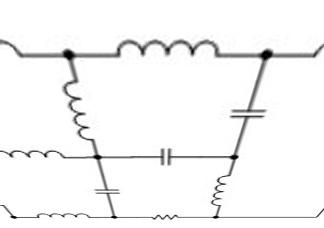inductor: (105, 26, 230, 62), (52, 72, 107, 145), (0, 143, 66, 166), (28, 205, 92, 223), (207, 169, 232, 208)
